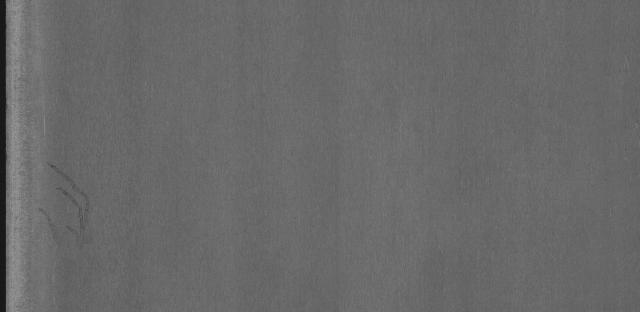water_spot: (36, 155, 100, 251)
